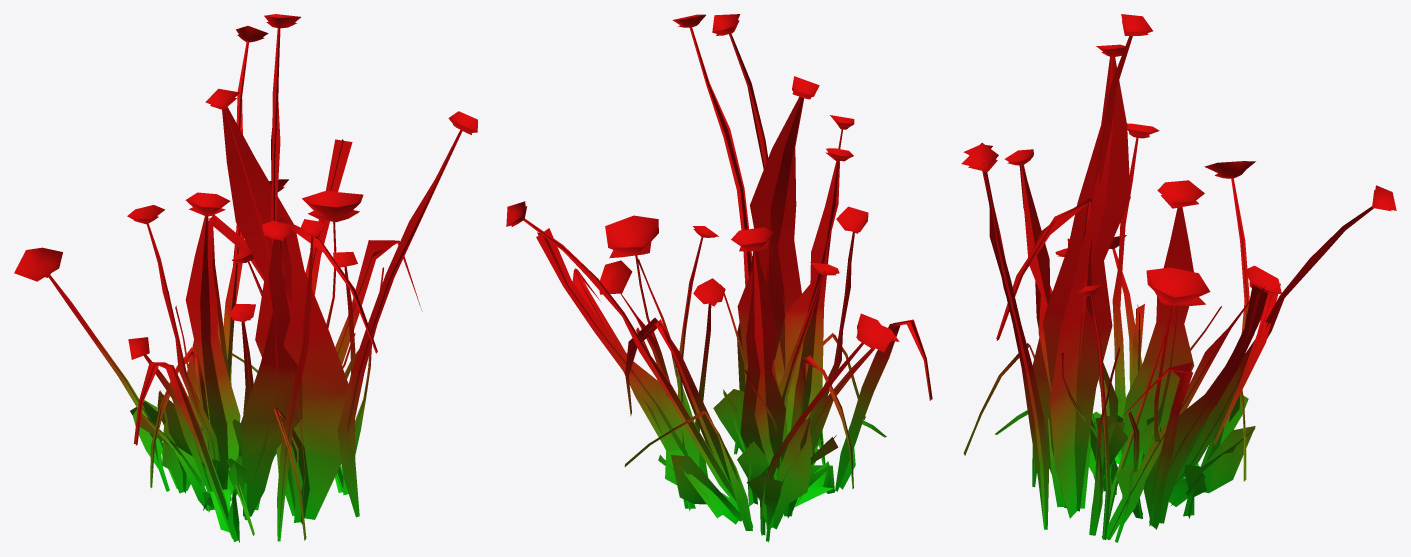
File: White Everlasting_LOD2_Var3_ucvobbbia.fbx
3 renders of one model, left to right at view 1: azimuth 30°, elevation 25°; view 2: azimuth 150°, elevation 25°; view 3: azimuth 270°, elevation 25°, orthographic. The views are drawn at different scales.
Parts seen in each view (by area): view 1: _35cb_Var3_LOD2; view 2: _35cb_Var3_LOD2; view 3: _35cb_Var3_LOD2.
Boxes of the visible parts, x1,y1,x2,y2 form: _35cb_Var3_LOD2: (14, 14, 477, 542); _35cb_Var3_LOD2: (506, 14, 932, 542); _35cb_Var3_LOD2: (961, 14, 1396, 542).
Bounding box in the file's own units: 46.1 × 61.92 × 48.45.
